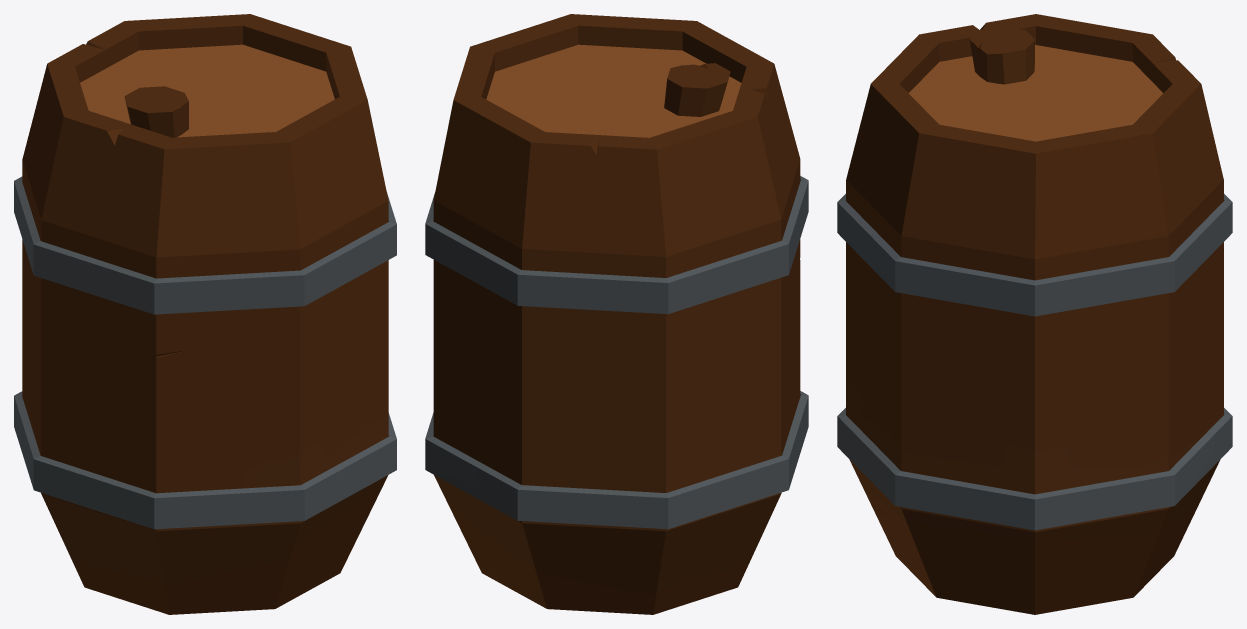
Rendered from barrel 1.fbx.
The picture shows the model from 3 angles, left to right: view 1: azimuth 30°, elevation 25°; view 2: azimuth 150°, elevation 25°; view 3: azimuth 270°, elevation 25°; orthographic projection.
Parts seen in each view (by area): view 1: Cylinder, Cylinder.001, Cylinder.002; view 2: Cylinder, Cylinder.001, Cylinder.002; view 3: Cylinder, Cylinder.001, Cylinder.002.
Part boxes in pixels (x1=…): Cylinder: x1=22, y1=14, x2=388, y2=614; Cylinder.001: x1=14, y1=176, x2=396, y2=314; Cylinder.002: x1=14, y1=391, x2=396, y2=529; Cylinder: x1=433, y1=14, x2=800, y2=614; Cylinder.001: x1=425, y1=176, x2=808, y2=314; Cylinder.002: x1=425, y1=391, x2=808, y2=529; Cylinder: x1=846, y1=14, x2=1223, y2=614; Cylinder.001: x1=837, y1=194, x2=1232, y2=316; Cylinder.002: x1=837, y1=408, x2=1232, y2=530.
Size of the model in its own units: 449 by 608 by 449.
